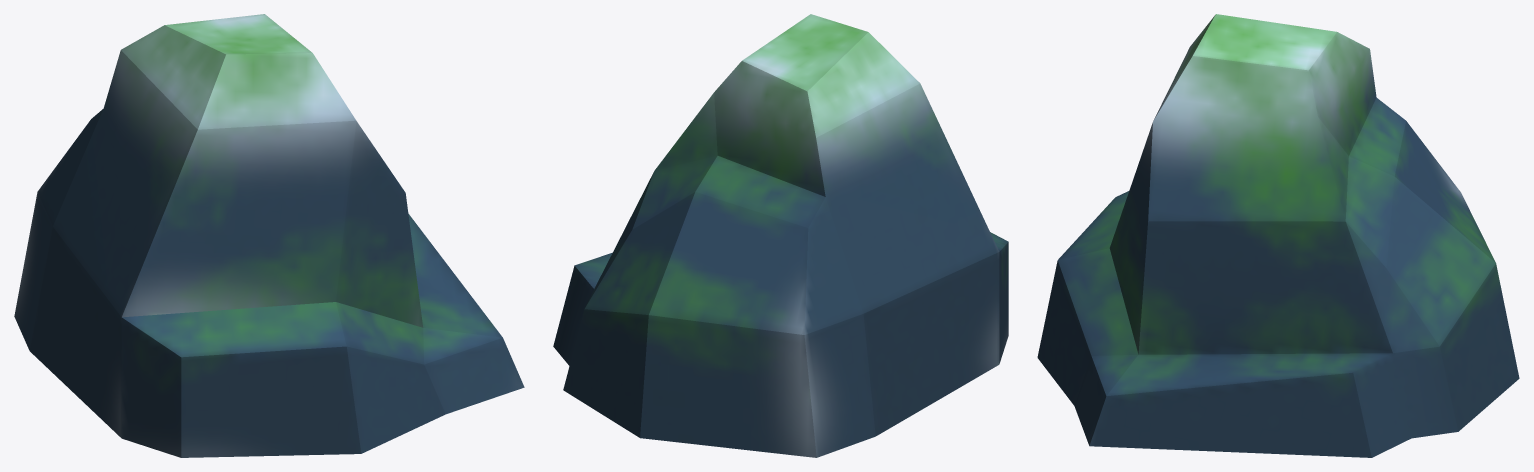
The model's file is Rock_Moss_2.fbx.
The picture shows the model from 3 angles, left to right: view 1: azimuth 30°, elevation 25°; view 2: azimuth 150°, elevation 25°; view 3: azimuth 270°, elevation 25°; orthographic projection. The views are drawn at different scales.
Visible parts, largest first — view 1: Rock_Moss_2; view 2: Rock_Moss_2; view 3: Rock_Moss_2.
Boxes of the visible parts, left/top/right/bottom form: Rock_Moss_2: left=14, top=14, right=524, bottom=457; Rock_Moss_2: left=553, top=14, right=1008, bottom=457; Rock_Moss_2: left=1037, top=14, right=1519, bottom=457.
Size of the model in its own units: 0.6738 by 0.5781 by 0.7782.
